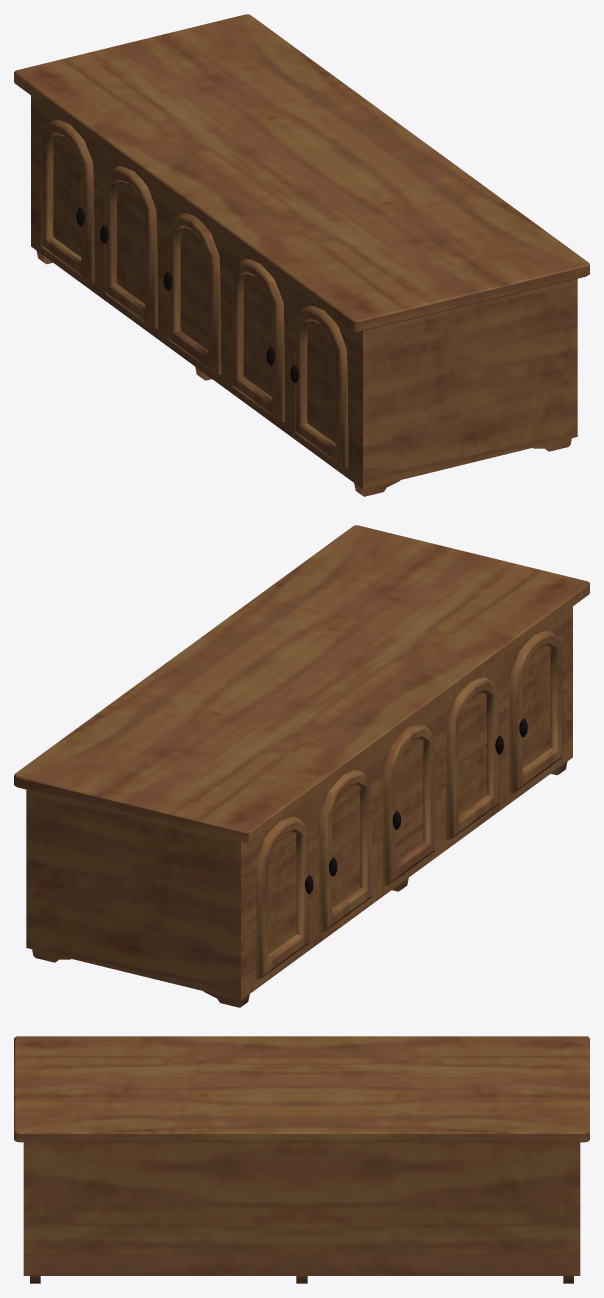
Rendered from CI_079_huge_cupboard_var3.glb.
The picture shows the model from 3 angles, top to bottom: view 1: azimuth 30°, elevation 25°; view 2: azimuth 150°, elevation 25°; view 3: azimuth 270°, elevation 25°; orthographic projection. The views are drawn at different scales.
Parts seen in each view (by area): view 1: cupboard; view 2: cupboard; view 3: cupboard.
Boxes of the visible parts, x1,y1,x2,y2 form: cupboard: [14, 14, 589, 496]; cupboard: [14, 525, 589, 1007]; cupboard: [14, 1036, 589, 1283].
Size of the model in its own units: 1.5 by 1.12 by 3.75.
Materials: 2 (1 with a texture image).
